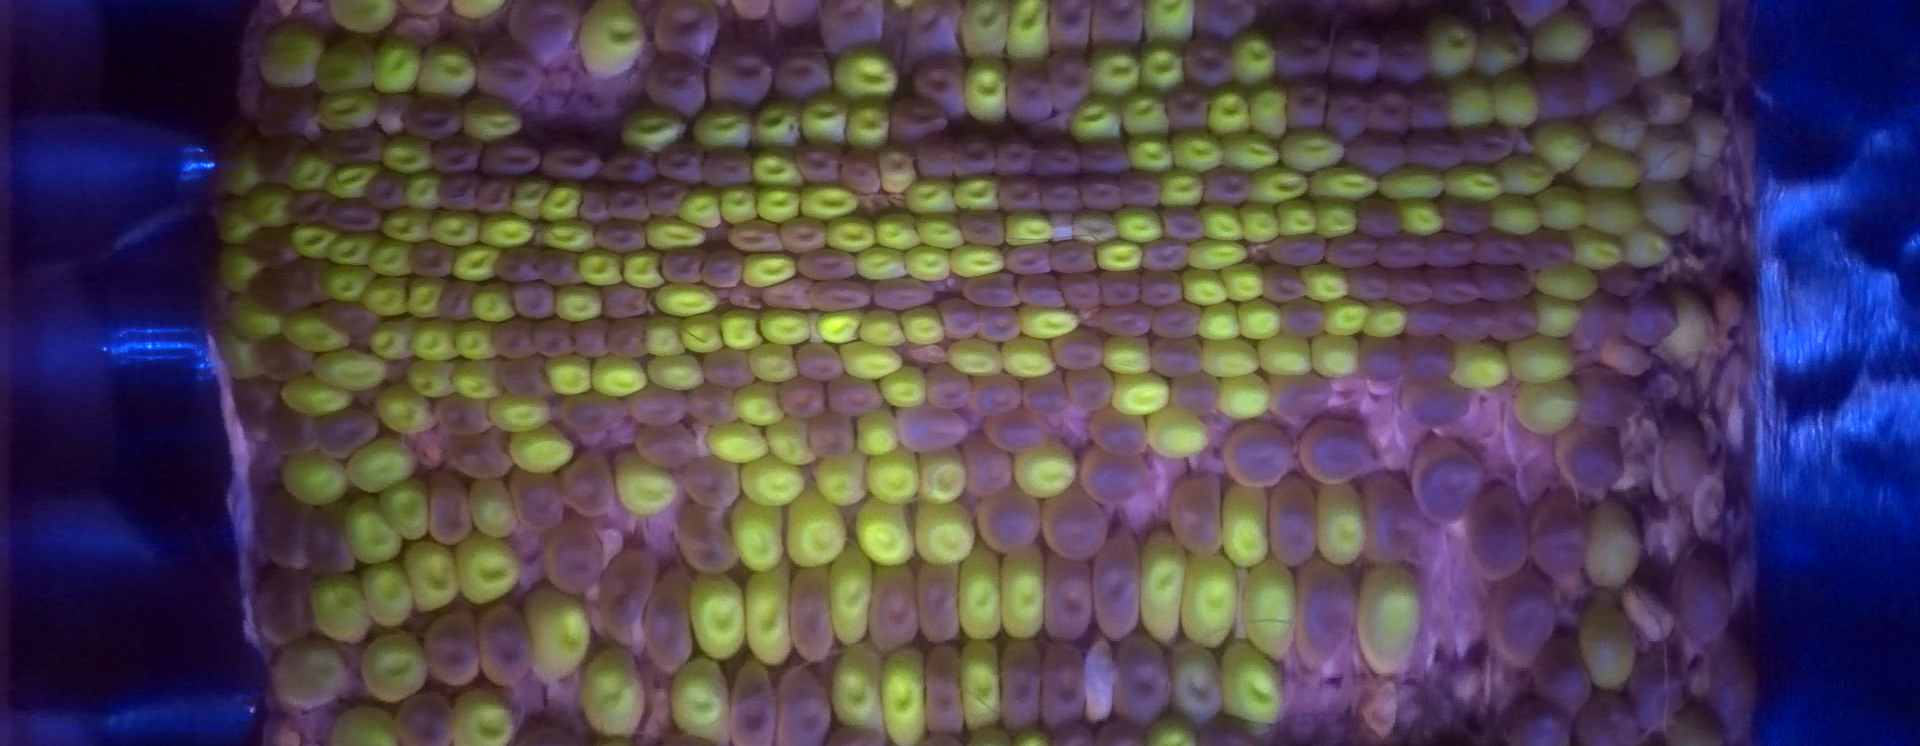fluorescent: (1360, 570, 1420, 680), (269, 641, 348, 712), (1139, 529, 1185, 643), (1220, 643, 1284, 723), (583, 649, 642, 736), (525, 592, 587, 675), (1577, 601, 1636, 684), (1183, 562, 1237, 649), (1247, 562, 1296, 658), (671, 660, 732, 736), (748, 561, 792, 665), (910, 496, 976, 563), (454, 537, 525, 599), (361, 637, 432, 699), (693, 575, 744, 659), (787, 491, 842, 570), (831, 644, 880, 733), (579, 7, 647, 71), (258, 20, 320, 88), (1593, 499, 1641, 586), (1002, 545, 1044, 641), (309, 577, 369, 644), (1315, 484, 1365, 563), (729, 496, 781, 571), (1624, 2, 1679, 73), (883, 650, 924, 744), (860, 495, 915, 565), (1528, 7, 1594, 65), (831, 552, 872, 646), (1223, 483, 1267, 566), (616, 447, 671, 512), (959, 552, 1000, 638), (1671, 294, 1717, 372), (833, 43, 899, 96), (1632, 73, 1692, 131), (1149, 401, 1205, 459), (340, 502, 397, 561), (312, 39, 371, 94), (280, 454, 347, 503), (1633, 183, 1700, 232), (449, 692, 512, 744), (961, 639, 997, 729), (306, 350, 388, 388), (348, 441, 414, 488), (365, 566, 411, 632), (1014, 443, 1075, 494), (1423, 20, 1476, 77), (418, 42, 478, 92), (1447, 338, 1509, 387), (511, 428, 572, 477), (1516, 382, 1578, 430), (811, 450, 864, 503), (1480, 22, 1526, 85), (1003, 1, 1051, 60), (1284, 129, 1348, 173), (373, 38, 420, 98), (405, 548, 451, 609), (1675, 1, 1725, 56), (1511, 338, 1573, 381), (1537, 121, 1592, 169), (280, 312, 349, 350), (334, 704, 398, 745), (961, 2, 1008, 58), (967, 62, 1007, 127), (377, 388, 436, 431), (1589, 107, 1648, 149), (1446, 72, 1491, 127), (740, 459, 796, 503), (459, 102, 527, 138), (1583, 186, 1637, 232), (651, 279, 718, 316), (384, 481, 429, 537), (696, 111, 756, 152), (1198, 338, 1258, 379), (804, 94, 852, 145), (227, 293, 280, 337), (1578, 151, 1644, 186), (707, 419, 763, 461), (1004, 336, 1053, 383), (767, 419, 817, 465), (1648, 134, 1698, 180), (1091, 51, 1144, 96), (1068, 98, 1120, 142), (1498, 73, 1540, 127), (868, 448, 913, 499), (1231, 26, 1273, 78), (317, 88, 376, 126), (917, 452, 962, 501), (1396, 196, 1452, 235), (1689, 111, 1727, 169), (277, 381, 348, 412), (1493, 190, 1542, 234), (948, 337, 1003, 376), (1531, 296, 1581, 339), (489, 394, 551, 429), (623, 108, 681, 145), (1113, 375, 1171, 412), (1125, 94, 1171, 141), (757, 307, 812, 345), (1204, 89, 1247, 137), (1450, 164, 1504, 202), (470, 481, 508, 535), (241, 183, 291, 223), (1311, 194, 1362, 234), (1671, 706, 1722, 746), (841, 344, 900, 379), (1621, 223, 1667, 267), (366, 320, 413, 363), (546, 355, 594, 397), (1499, 158, 1553, 195), (1536, 191, 1589, 228), (1217, 379, 1266, 419), (431, 208, 481, 247), (471, 279, 516, 323), (847, 98, 890, 143), (1575, 227, 1620, 269), (744, 250, 797, 287), (645, 353, 698, 390), (1141, 40, 1180, 89), (853, 246, 909, 281), (1311, 334, 1356, 377), (1539, 263, 1596, 296), (552, 282, 602, 318), (1260, 336, 1310, 372), (1162, 169, 1206, 211), (590, 356, 643, 391), (1146, 1, 1195, 38), (1384, 167, 1442, 197), (1300, 265, 1349, 301), (402, 358, 451, 394), (383, 131, 433, 167), (733, 391, 784, 426), (220, 246, 260, 292), (1178, 267, 1224, 305), (329, 1, 394, 28), (800, 186, 853, 218), (1171, 130, 1217, 167), (901, 244, 949, 279), (413, 323, 460, 359), (1104, 336, 1152, 371), (1239, 201, 1280, 243), (371, 236, 413, 277), (331, 232, 373, 271), (451, 244, 500, 278), (578, 247, 621, 287), (365, 276, 404, 318), (1222, 134, 1275, 165), (539, 218, 591, 250), (283, 224, 336, 256), (1199, 203, 1243, 241), (857, 412, 895, 456), (953, 175, 998, 212), (950, 244, 1007, 273), (899, 311, 947, 345), (284, 148, 326, 187), (757, 183, 798, 222), (482, 214, 531, 247), (456, 360, 502, 394), (758, 107, 798, 146), (681, 185, 719, 227), (329, 164, 377, 197), (827, 217, 871, 252), (1253, 85, 1284, 134), (383, 205, 430, 238), (323, 263, 364, 301), (1326, 298, 1367, 336), (719, 311, 762, 347), (680, 316, 722, 352), (1021, 310, 1080, 336), (456, 322, 500, 356), (229, 143, 260, 192), (1313, 171, 1374, 196), (1258, 164, 1303, 197), (1198, 307, 1243, 341), (1240, 298, 1280, 336), (216, 203, 251, 245), (1365, 301, 1407, 337), (1187, 243, 1247, 267), (749, 348, 797, 379), (645, 223, 708, 246), (876, 216, 921, 247), (861, 314, 906, 345), (1117, 209, 1166, 239), (623, 251, 662, 288), (1130, 136, 1171, 171), (906, 183, 954, 212), (1227, 262, 1262, 301), (882, 375, 927, 405), (1144, 720, 1196, 746), (647, 318, 686, 353), (1275, 201, 1316, 233), (1096, 240, 1142, 268), (1004, 216, 1059, 239), (549, 181, 580, 220), (722, 185, 756, 222), (407, 281, 443, 314), (752, 158, 800, 183), (516, 174, 540, 220), (920, 218, 964, 244), (820, 311, 860, 339), (882, 149, 910, 187), (407, 173, 437, 206), (448, 1, 504, 17)
nonfluorescent: (1296, 562, 1360, 680), (1091, 526, 1151, 643), (1411, 439, 1487, 527), (1490, 572, 1556, 671), (598, 544, 656, 650), (1673, 544, 1735, 642), (1224, 423, 1307, 496), (1040, 548, 1100, 646), (1472, 481, 1529, 581), (302, 499, 370, 582), (1269, 477, 1324, 577), (1367, 469, 1424, 563), (474, 603, 535, 688), (1572, 363, 1653, 426), (1534, 489, 1589, 579), (726, 658, 782, 746), (647, 572, 696, 673), (1112, 641, 1171, 724), (255, 484, 309, 575), (774, 665, 834, 746), (922, 650, 977, 737), (255, 571, 315, 649), (1537, 637, 1596, 717), (1041, 491, 1109, 559), (1554, 418, 1613, 496), (648, 1, 722, 62), (427, 608, 482, 690), (475, 49, 553, 107), (1171, 475, 1224, 559), (640, 51, 708, 118), (915, 561, 967, 646), (702, 47, 775, 107), (1584, 39, 1643, 114), (1002, 644, 1051, 733), (980, 486, 1043, 552), (1300, 421, 1373, 479), (516, 1, 577, 69), (562, 447, 617, 522), (1523, 59, 1589, 120), (312, 401, 380, 461), (549, 521, 606, 590), (1043, 643, 1089, 728), (898, 404, 978, 451), (680, 513, 736, 579), (1572, 693, 1642, 746), (776, 44, 833, 109), (424, 475, 476, 544), (1633, 650, 1678, 731), (1400, 379, 1472, 428), (904, 1, 961, 62), (876, 561, 915, 650), (1086, 1, 1146, 58), (257, 86, 320, 140), (558, 391, 624, 441), (504, 472, 562, 529), (1178, 40, 1239, 94), (1080, 453, 1152, 499), (251, 267, 318, 315), (823, 1, 887, 51), (444, 435, 517, 479), (1327, 34, 1384, 91), (1439, 300, 1495, 356), (921, 361, 978, 416), (1344, 131, 1414, 176), (1271, 29, 1331, 82), (1374, 33, 1434, 85), (1511, 697, 1573, 746), (1191, 1, 1260, 45), (1009, 60, 1056, 125), (399, 96, 469, 138), (1058, 364, 1120, 412), (687, 454, 741, 510), (393, 690, 446, 746), (1271, 377, 1336, 423), (1089, 412, 1153, 457), (1044, 1, 1096, 58), (932, 295, 989, 345), (1046, 51, 1093, 111), (684, 383, 744, 431), (1462, 122, 1520, 171), (913, 61, 962, 118), (1487, 294, 1543, 343), (318, 293, 376, 341), (962, 447, 1020, 495), (538, 142, 606, 181), (1326, 86, 1371, 145), (1407, 129, 1467, 173), (984, 415, 1052, 454), (1632, 296, 1680, 352), (764, 274, 827, 316), (260, 334, 318, 379), (602, 314, 655, 363), (887, 102, 954, 140), (1149, 336, 1210, 377), (1162, 85, 1220, 129), (1367, 85, 1417, 135), (793, 341, 852, 383), (790, 244, 856, 282), (1580, 292, 1626, 345), (1354, 334, 1408, 381), (704, 345, 757, 392), (599, 147, 659, 187), (637, 432, 700, 470), (268, 398, 311, 454), (1020, 370, 1067, 421), (320, 127, 384, 164), (481, 136, 540, 176), (249, 225, 302, 269), (234, 379, 274, 437), (1018, 269, 1073, 312), (433, 393, 490, 435), (255, 134, 302, 183), (947, 134, 998, 179), (1029, 138, 1082, 181), (959, 278, 1029, 311), (813, 276, 876, 312), (1409, 85, 1458, 131), (496, 358, 552, 398), (867, 277, 936, 310), (1272, 299, 1330, 338), (824, 375, 885, 412), (1283, 81, 1331, 127), (1204, 165, 1260, 205), (634, 385, 686, 428), (1169, 375, 1221, 418), (598, 282, 651, 322), (1056, 325, 1102, 371), (1357, 197, 1404, 243), (1371, 235, 1430, 272), (1442, 194, 1491, 238), (703, 145, 753, 187), (487, 318, 538, 361), (841, 145, 882, 197), (1079, 138, 1134, 176), (324, 196, 380, 234), (779, 375, 829, 416), (407, 239, 458, 279), (971, 372, 1022, 413), (437, 277, 482, 322), (1408, 334, 1452, 381), (1266, 232, 1324, 267), (1593, 261, 1642, 303), (809, 416, 860, 457), (1058, 274, 1109, 314), (511, 281, 562, 320), (534, 247, 587, 285), (432, 136, 480, 178), (362, 168, 410, 209), (1474, 267, 1537, 299), (1153, 298, 1202, 338), (996, 131, 1035, 181), (655, 145, 703, 185), (975, 304, 1022, 344), (1524, 225, 1573, 265), (1502, 1, 1573, 28), (996, 176, 1046, 214), (1584, 1, 1640, 36), (911, 135, 955, 178), (643, 178, 689, 218), (1078, 176, 1125, 216), (697, 254, 746, 292), (1427, 234, 1476, 272), (1476, 232, 1524, 269), (1258, 265, 1307, 303), (958, 212, 1009, 247), (733, 217, 780, 256), (1139, 271, 1185, 310), (1142, 238, 1193, 273), (1051, 240, 1097, 278), (1433, 271, 1480, 307), (491, 243, 533, 284), (1100, 269, 1142, 310), (1120, 170, 1171, 205), (1103, 309, 1157, 341), (780, 217, 827, 254), (658, 246, 700, 285), (531, 318, 576, 356), (806, 143, 842, 189), (1320, 236, 1371, 268), (1401, 304, 1449, 338), (1160, 209, 1209, 243), (1200, 717, 1254, 746), (471, 176, 513, 214), (1389, 271, 1431, 306), (1005, 245, 1051, 278), (1040, 176, 1079, 214), (436, 173, 471, 214), (569, 320, 604, 363), (609, 187, 648, 223), (577, 185, 611, 225), (596, 225, 650, 251), (1349, 271, 1392, 303), (516, 722, 567, 746), (291, 190, 332, 220), (773, 1, 823, 24), (729, 1, 775, 21), (1097, 723, 1136, 746), (1054, 723, 1093, 746)
